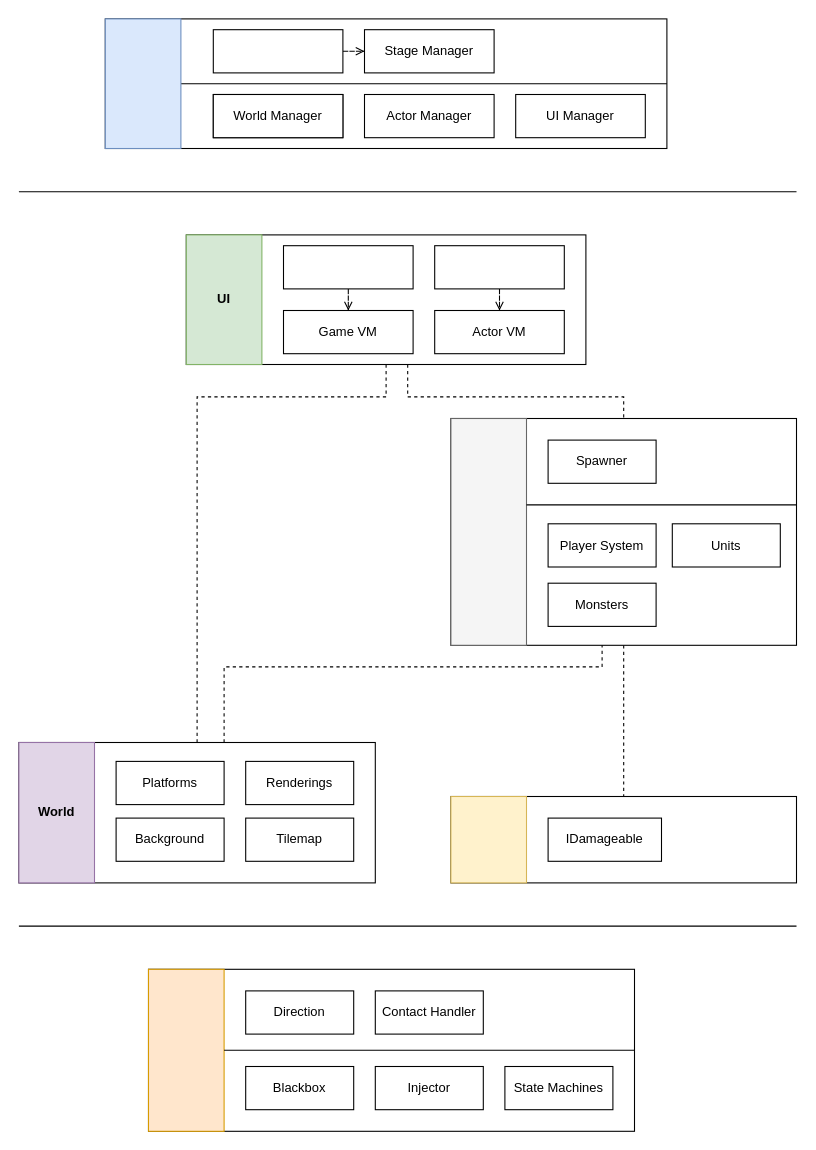
Image size: 816x1150. Some labels were removed from this diagram. The shapes that lost their labels are listed below. From the top down, each one's centre as x and y in pixels, then its label:
(277,51): Game Manager
(142,83): Game
(347,267): Game UI
(499,267): Actor UI
(488,531): Actors
(488,839): Rules
(185,1049): Infra- structure
